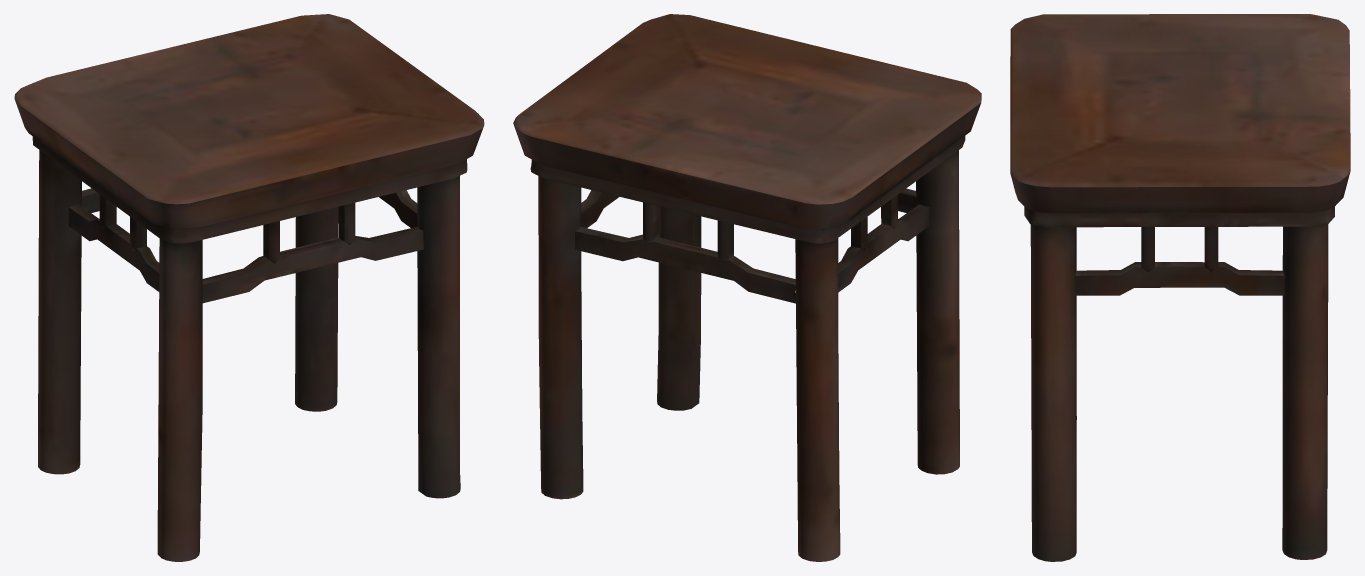
Rendered from cn_stool.glb.
The picture shows the model from 3 angles, left to right: view 1: azimuth 30°, elevation 25°; view 2: azimuth 150°, elevation 25°; view 3: azimuth 270°, elevation 25°; orthographic projection. The views are drawn at different scales.
Parts seen in each view (by area): view 1: cn_stool; view 2: cn_stool; view 3: cn_stool.
Part boxes in pixels (<box>): cn_stool: <box>14,14,484,561</box>; cn_stool: <box>513,14,981,561</box>; cn_stool: <box>1010,14,1350,561</box>.
Bounding box in the file's own units: 0.5975 × 0.6306 × 0.5016.
1 material, 1 textured.
